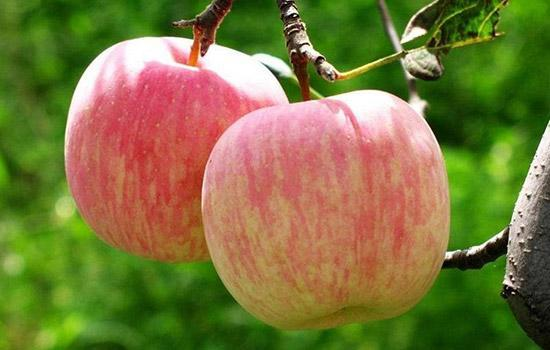apple: (178, 83, 451, 324), (62, 34, 289, 261)
